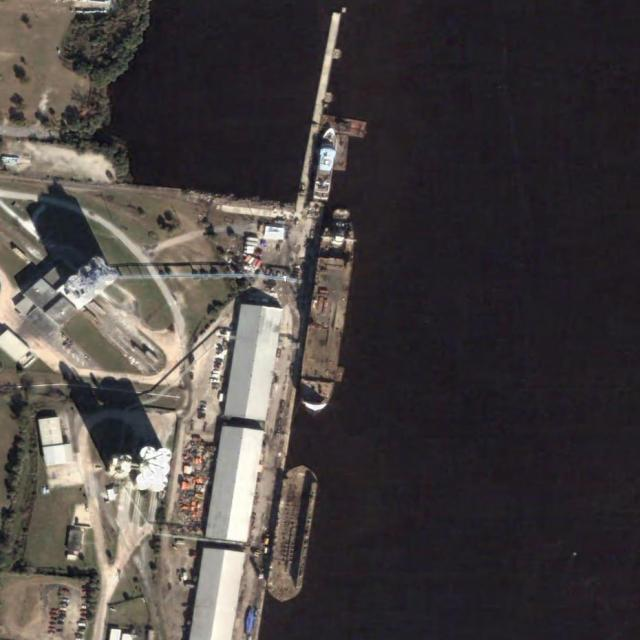Cargo: (291, 204, 368, 418)
Other Ship: (311, 126, 339, 203)
